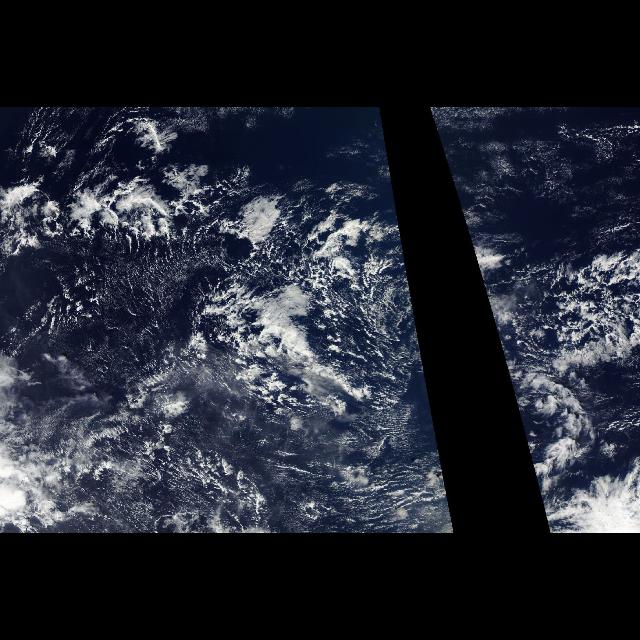Fish: (8, 142, 436, 432), (436, 142, 640, 432)
Sugar: (130, 406, 418, 518), (53, 249, 197, 345)
